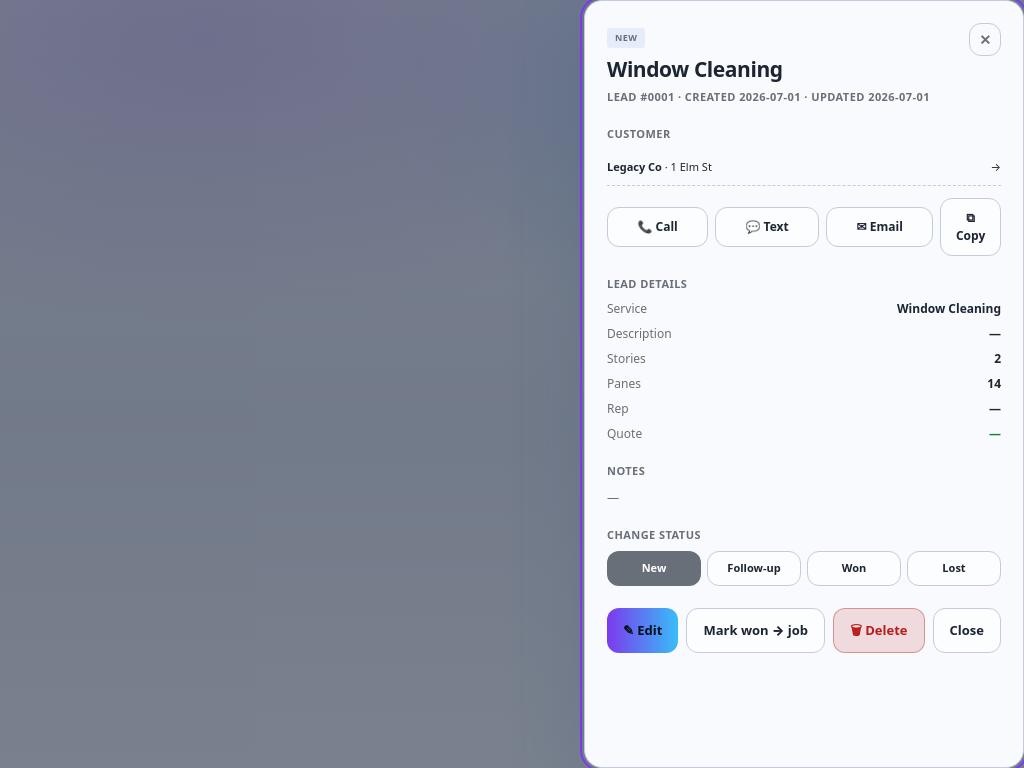
Test case: LeadDrawer Rep select for a rep_id absent from the current options (demoted/legacy) › falls back to the raw id label when rep_name failed to resolve
Click the button "✎ Edit". click: click(643, 630)
box: x1=607 y1=608 x2=678 y2=653
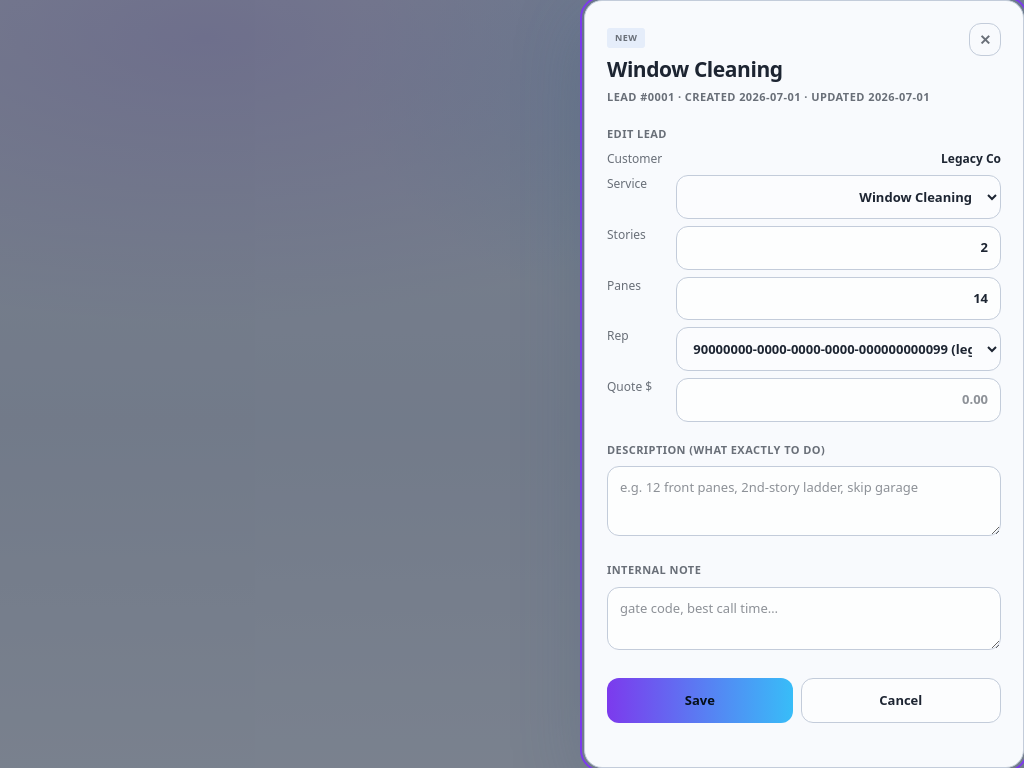
Check: the 2nd dropdown named "rep_id" shows "90000000-0000-0000-0000-000000000099 (legacy)", box x1=676 y1=327 x2=1001 y2=371
